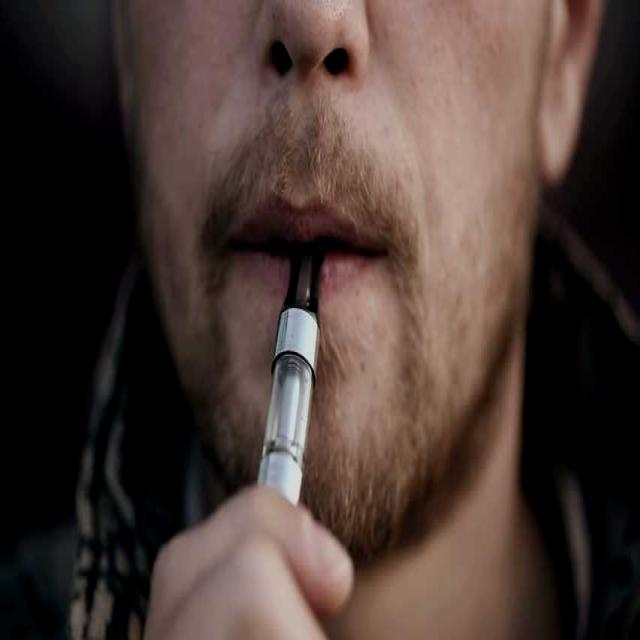Smooking: (242, 221, 332, 508)
